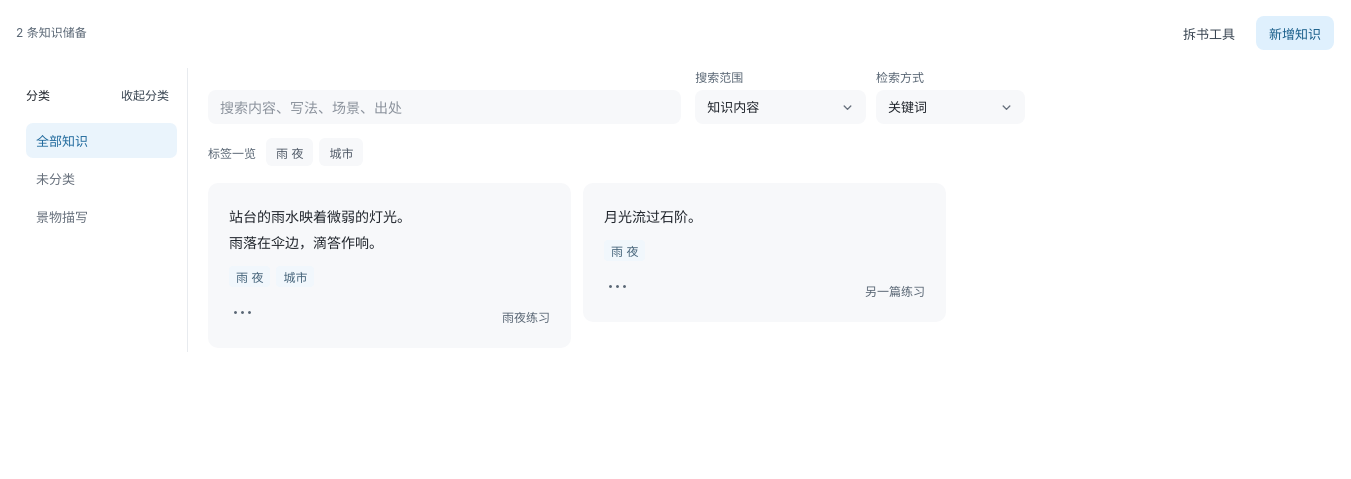
知识卡片与搜索 › 默认使用关键词检索，显示回退原因并按页请求本机知识
The image size is (1351, 479).
In the search field named "模糊搜索知识与正文": (445, 107) [208,90,681,124], type "雨"
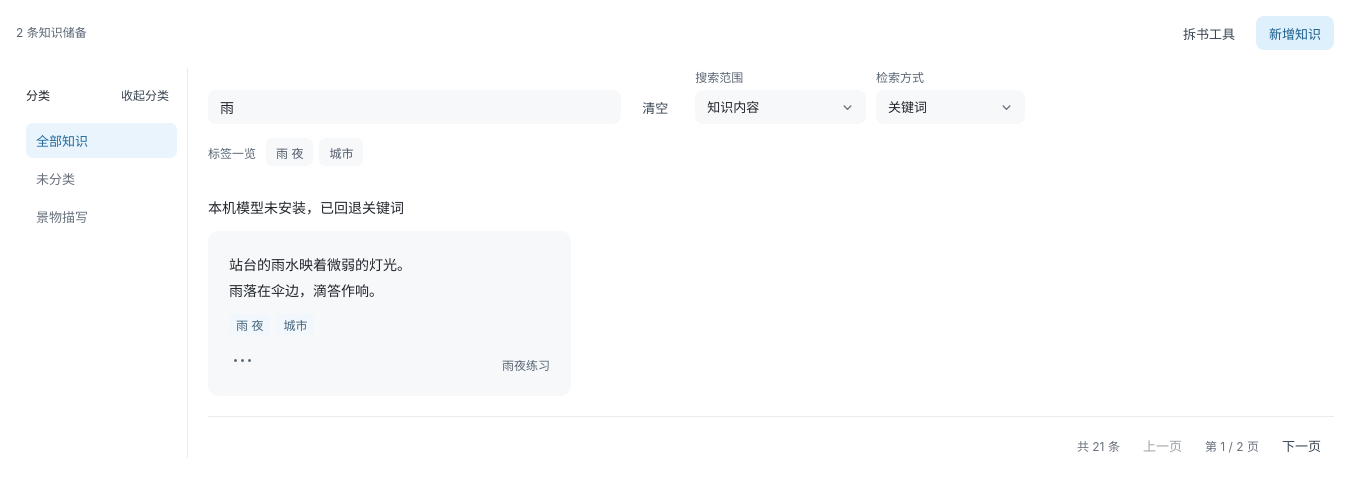
Expected: the button with aria-label "展开知识：站台" is shown, [229,252,550,304]
Result: the text "本机模型未安装，已回退关键词" is shown at [208,199,404,216]
Result: the button with aria-label "下一页检索结果" is shown
Click the button with aria-label "下一页检索结果": (1302, 445) [1269,428,1334,462]
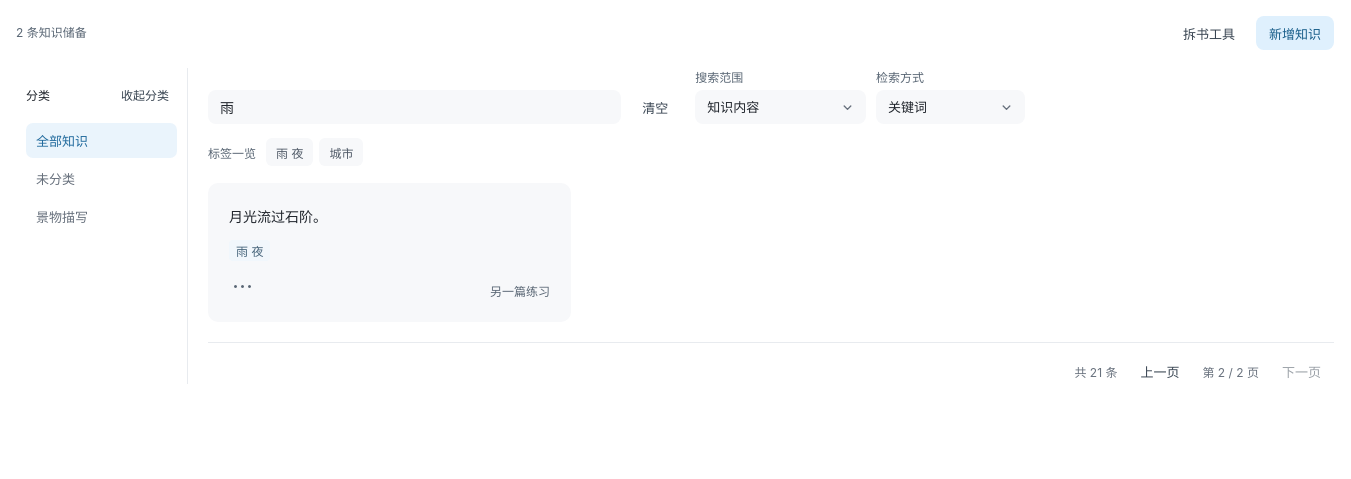
Result: the button with aria-label "展开知识：月光" is shown at [229,204,550,230]
